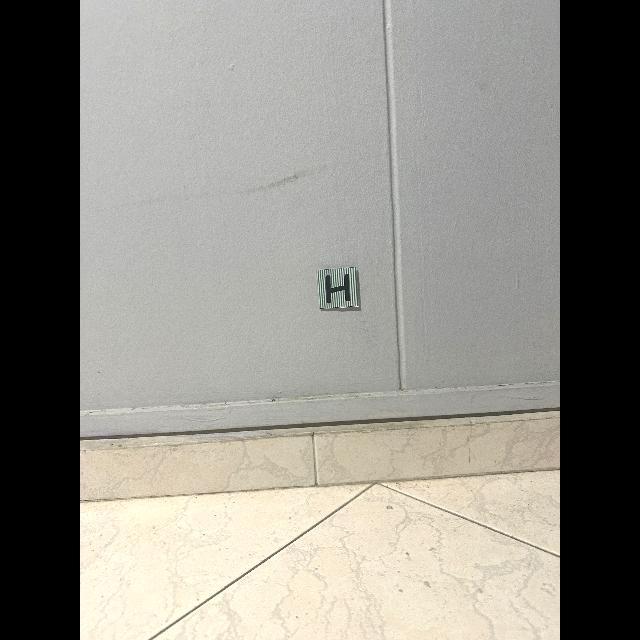H: (326, 273, 350, 304)
